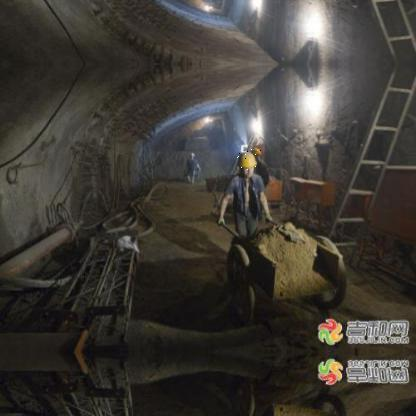safetyhelmet: (237, 152, 260, 174), (249, 146, 262, 156)
